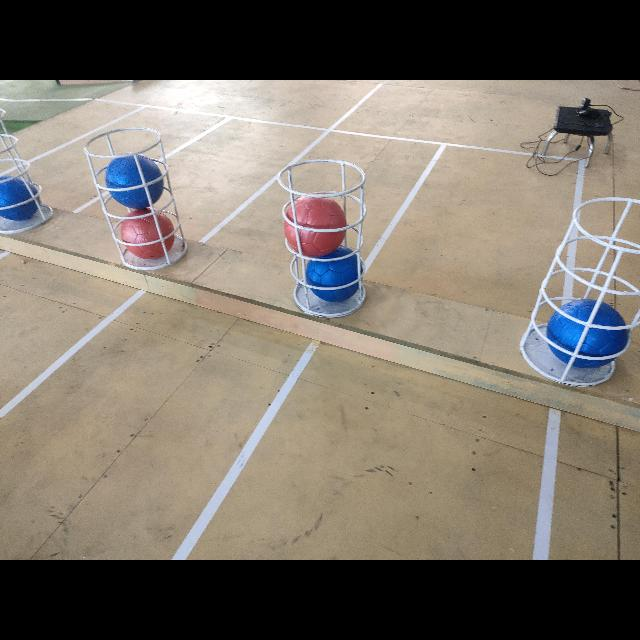B: (545, 298, 629, 370), (104, 153, 166, 210), (305, 255, 363, 301), (0, 176, 40, 222)
R: (282, 194, 346, 254), (118, 211, 176, 261)
